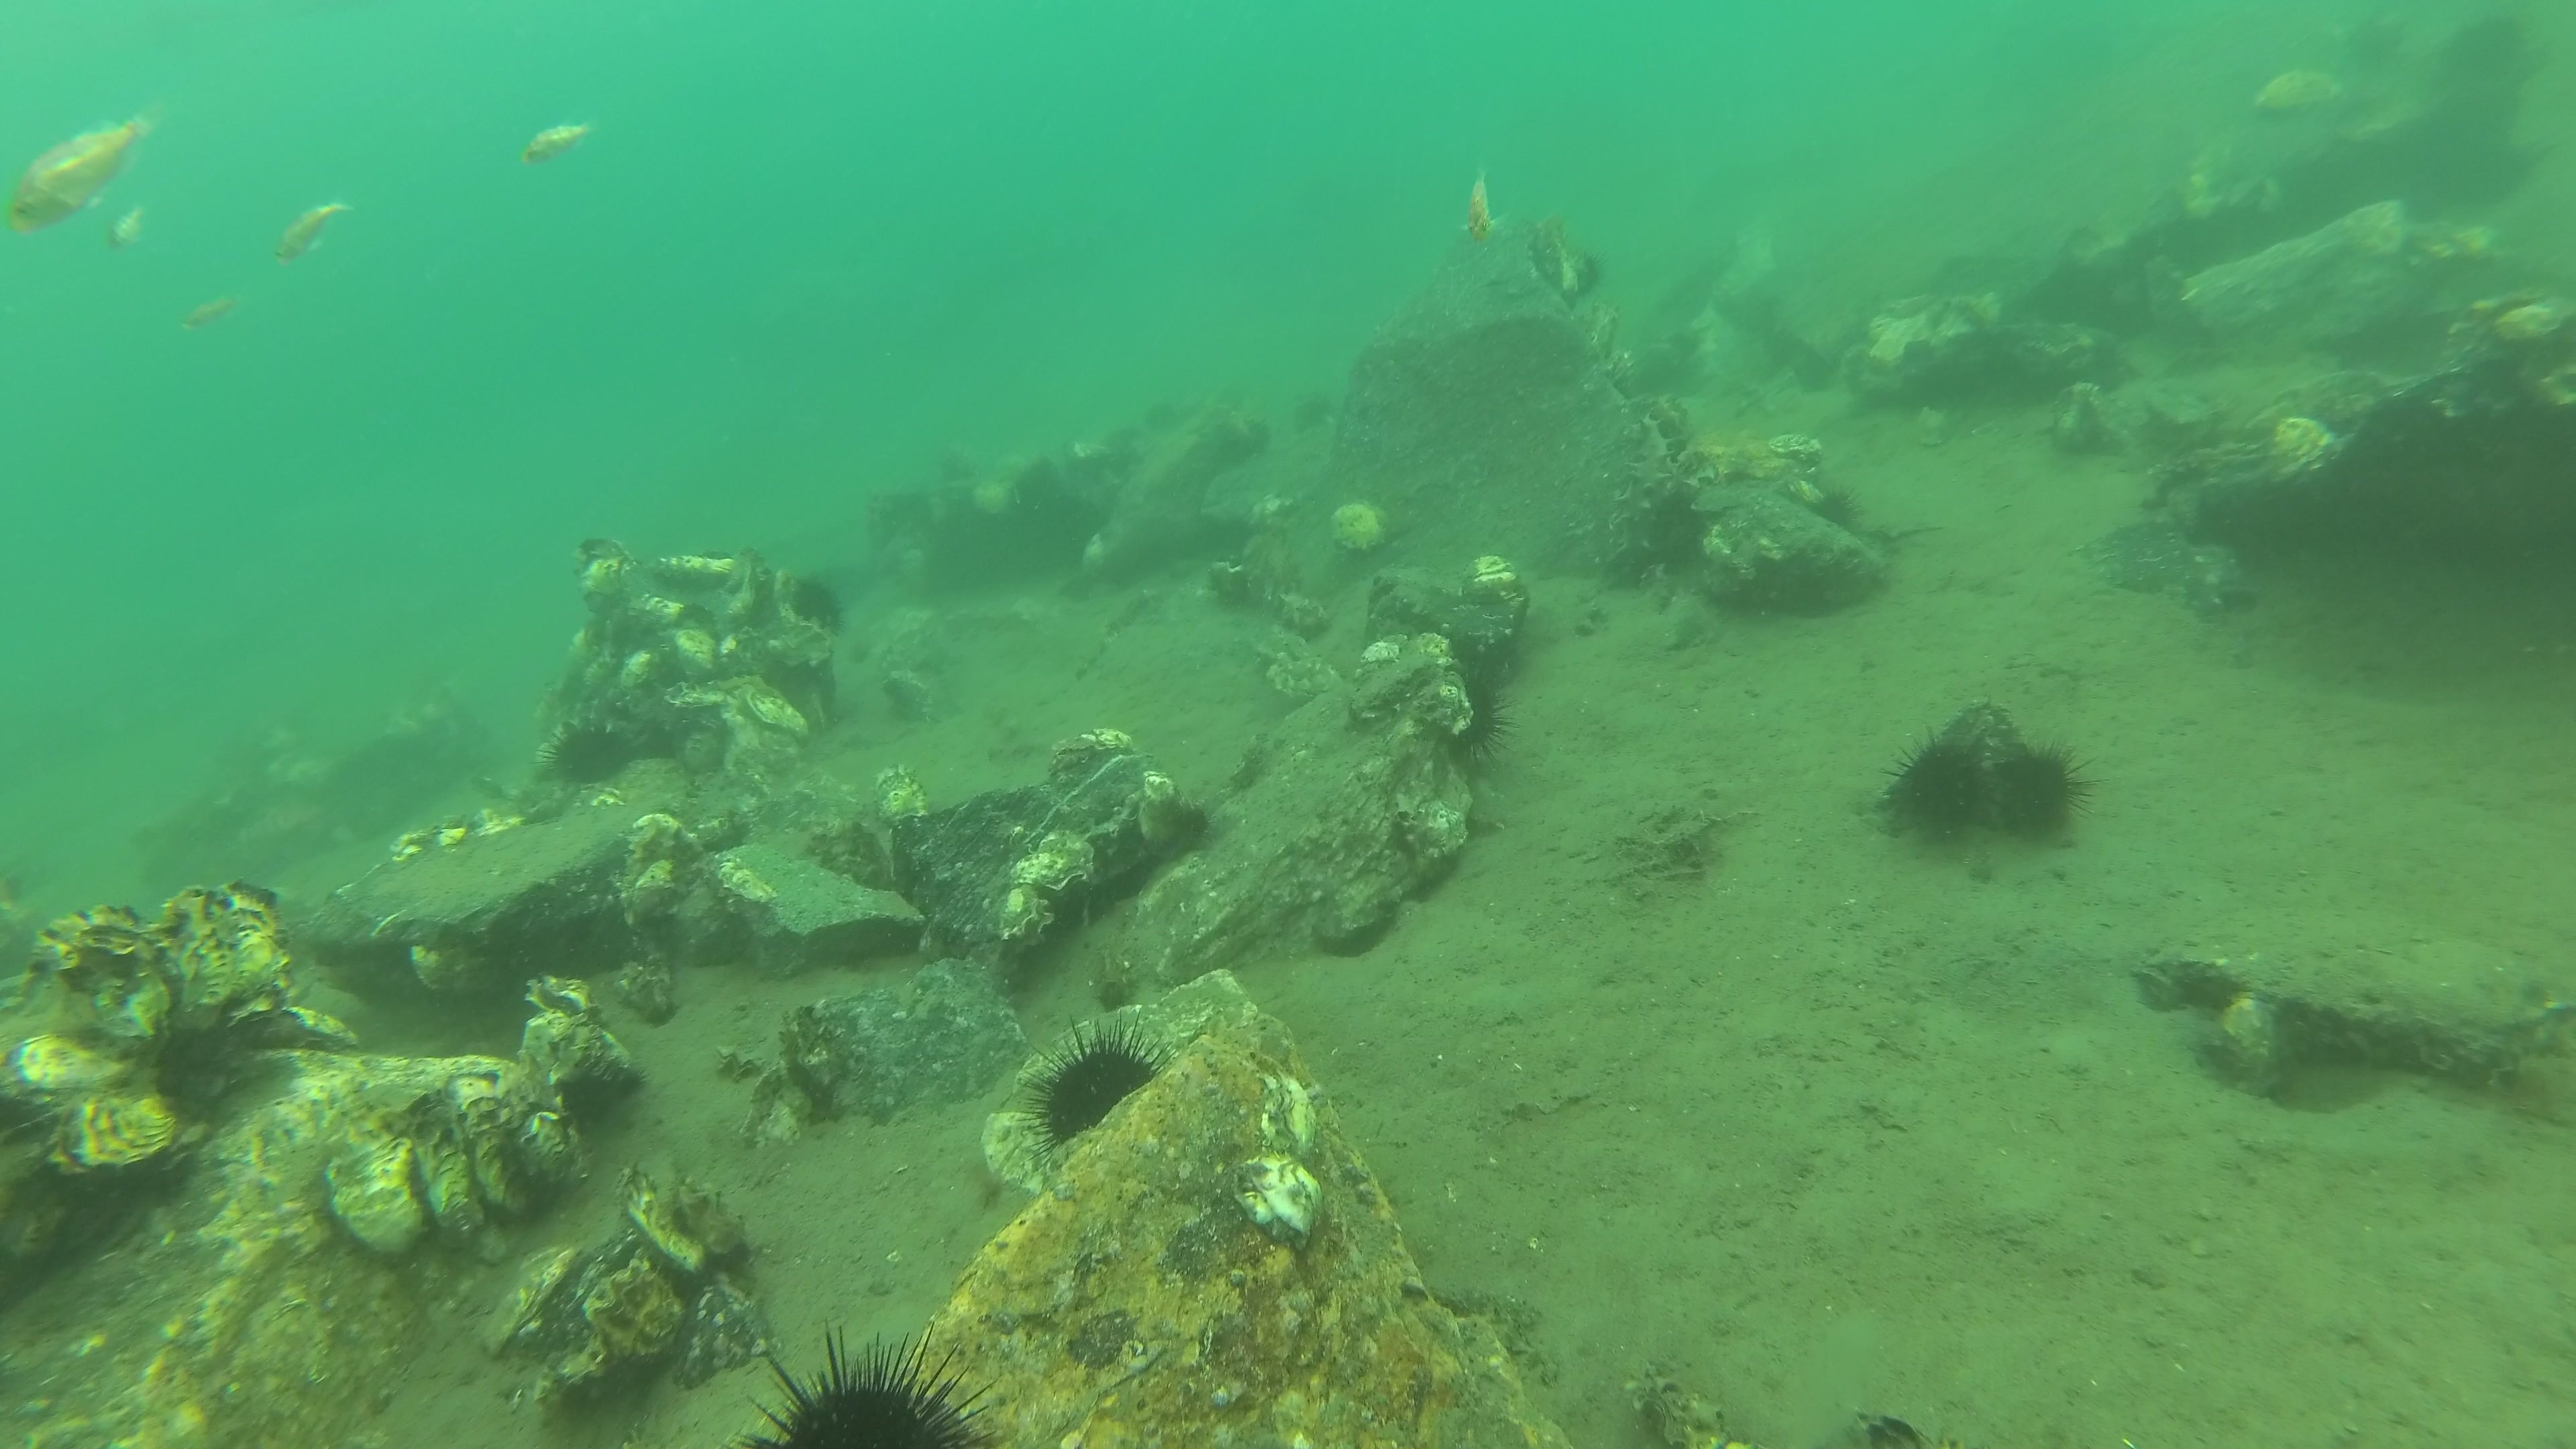echinus: (743, 1322, 1000, 1449), (1024, 1019, 1177, 1155), (1882, 727, 1996, 837), (1997, 738, 2114, 844), (548, 1056, 648, 1125), (534, 722, 623, 787), (1461, 663, 1513, 759), (782, 573, 849, 639)
